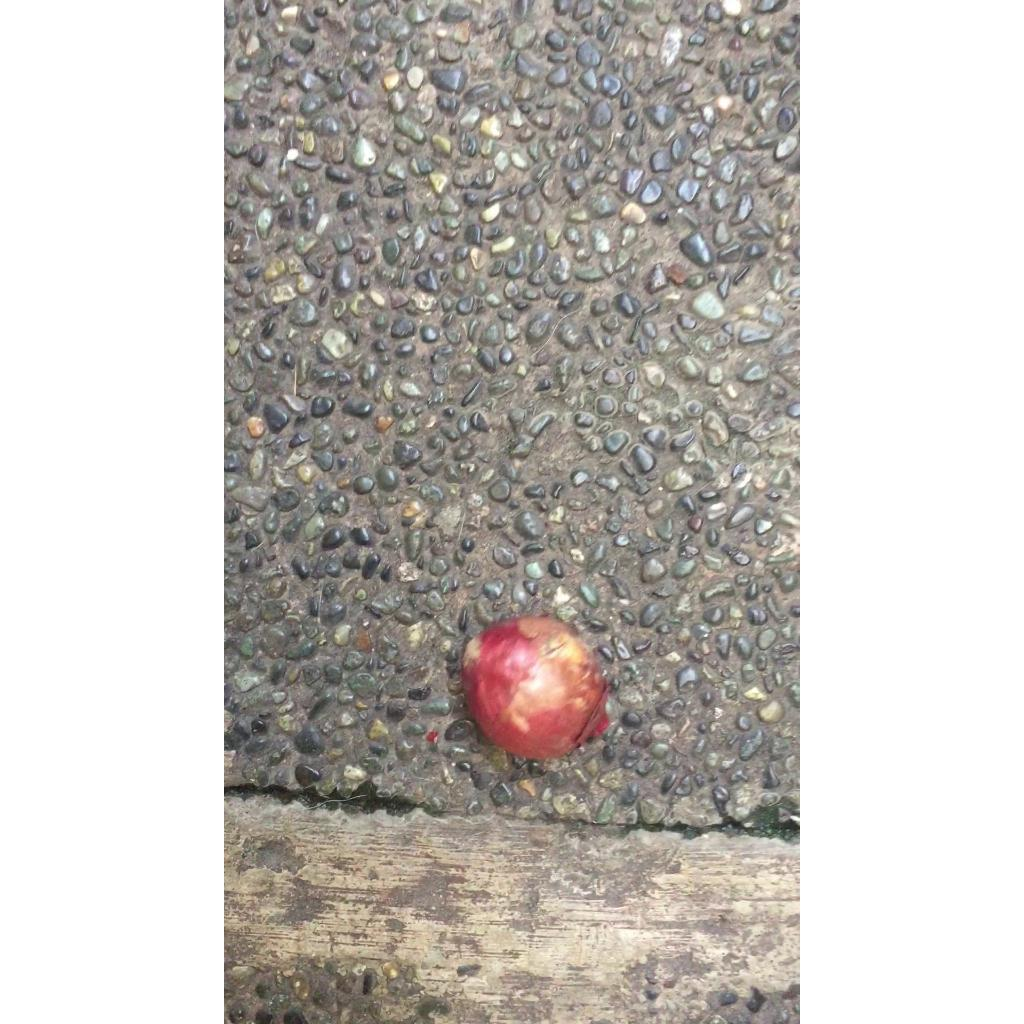Onion: (461, 616, 607, 760)
